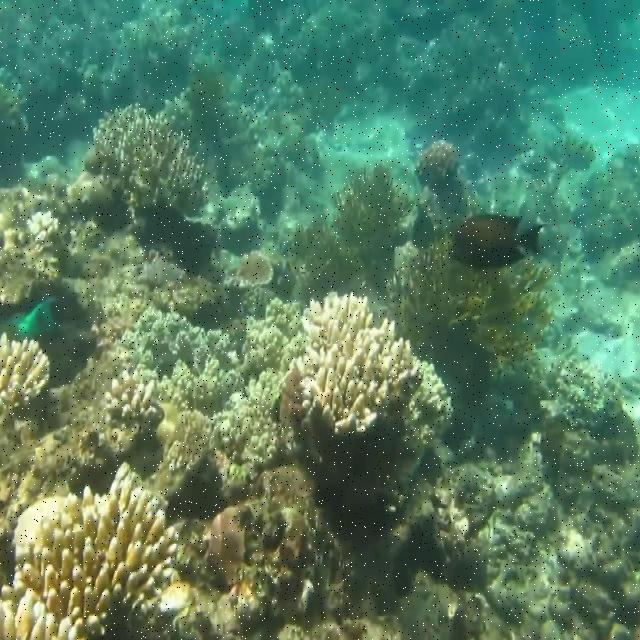aquatic plants: (392, 235, 560, 364), (277, 166, 412, 289)
fish: (451, 212, 552, 274), (413, 204, 443, 249)
reefs: (0, 464, 194, 639), (279, 287, 454, 451), (93, 101, 212, 213), (0, 184, 64, 304), (539, 354, 632, 426), (0, 332, 50, 413), (104, 369, 160, 431)
